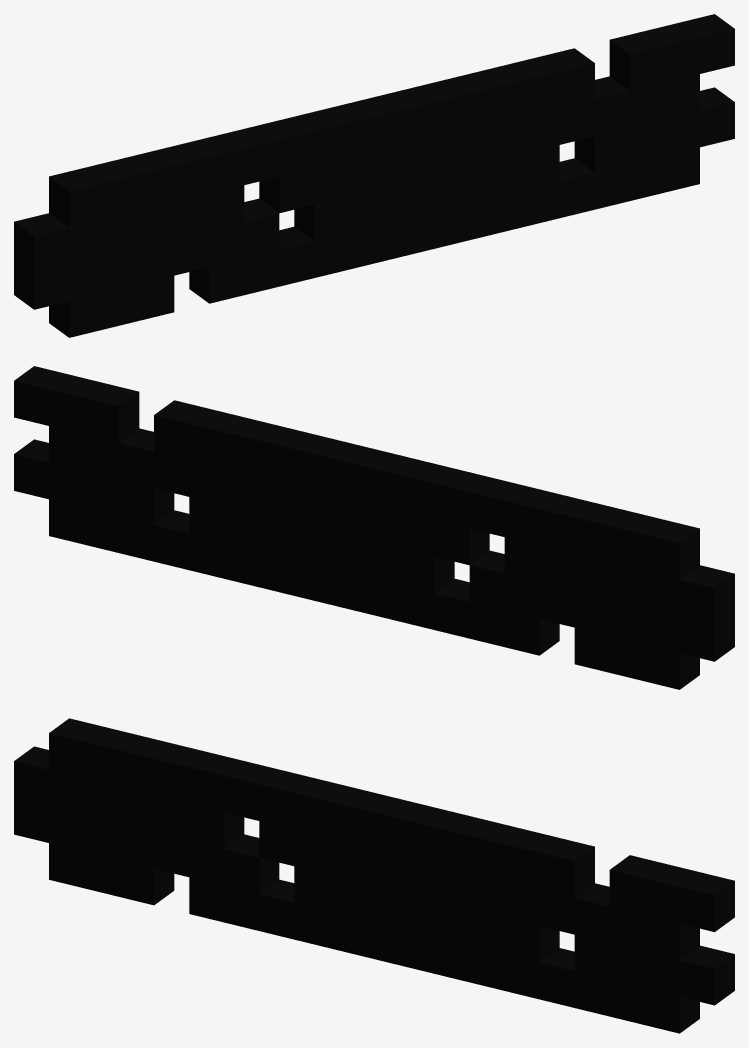
File: Gauge_ZombieSkinRotten_Thick_Full.002.fbx
3 views of the same model, one above another, from view 1: azimuth 30°, elevation 25°; view 2: azimuth 150°, elevation 25°; view 3: azimuth 330°, elevation 25° (orthographic).
Visible parts, largest first — view 1: Gauge_ZombieSkinRotten_Thick_Full.002; view 2: Gauge_ZombieSkinRotten_Thick_Full.002; view 3: Gauge_ZombieSkinRotten_Thick_Full.002.
Boxes of the visible parts, x1,y1,x2,y2 form: Gauge_ZombieSkinRotten_Thick_Full.002: (14, 14, 734, 337); Gauge_ZombieSkinRotten_Thick_Full.002: (14, 366, 734, 689); Gauge_ZombieSkinRotten_Thick_Full.002: (14, 718, 734, 1033).
Bounding box in the file's own units: 2 × 0.4 × 0.1.
